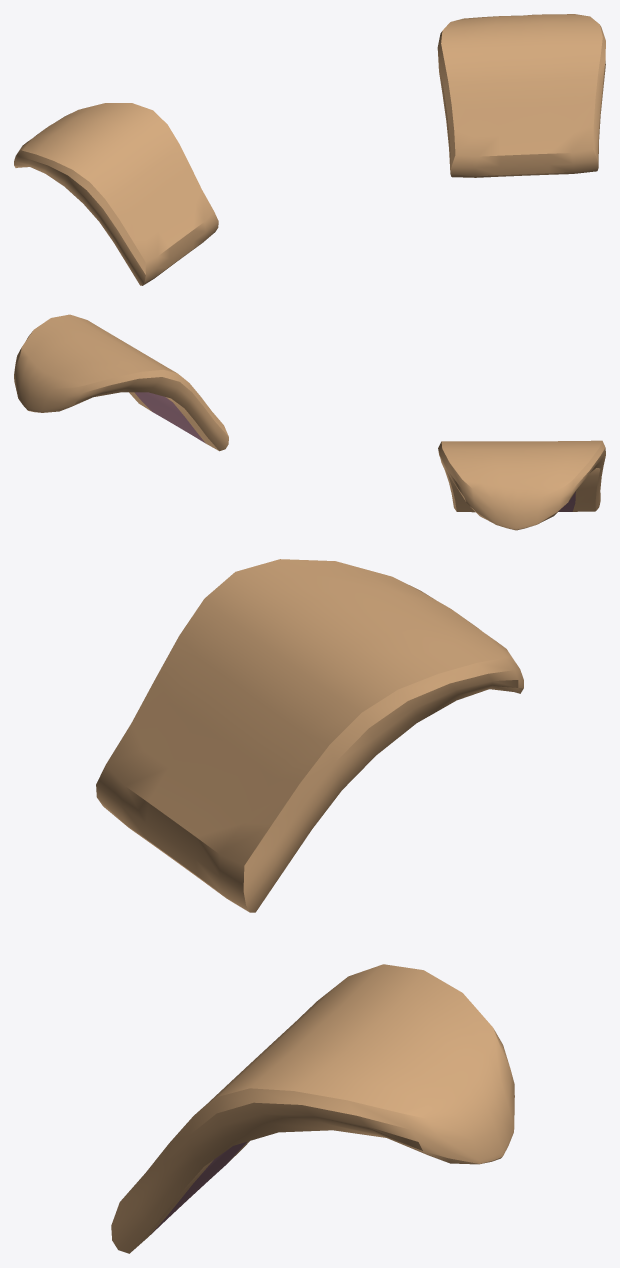
The model's file is Dog Ears.fbx.
3 views of the same model, one above another, from view 1: azimuth 30°, elevation 25°; view 2: azimuth 150°, elevation 25°; view 3: azimuth 270°, elevation 25° (orthographic). The views are drawn at different scales.
Parts seen in each view (by area): view 1: 0.Dog ears; view 2: 0.Dog ears; view 3: 0.Dog ears.
Boxes of the visible parts, box(x1,y1,x2,y2) form: 0.Dog ears: box(14, 14, 605, 285); 0.Dog ears: box(14, 314, 605, 530); 0.Dog ears: box(96, 559, 523, 1253).
Size of the model in its own units: 202 by 36.53 by 66.98.
